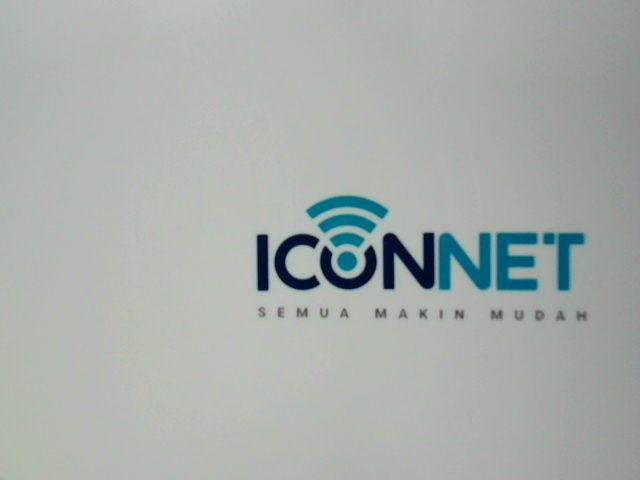BM_ICONNET: (230, 181, 616, 346)
